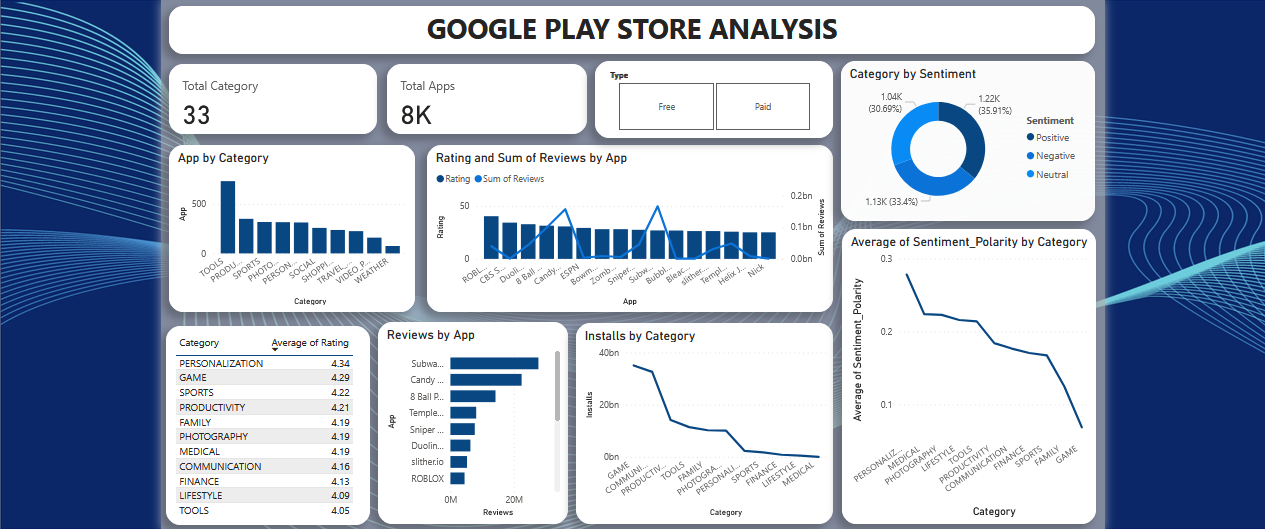

The dashboard page shown, as its layout file describes it:
{"tool":"powerbi","page":{"name":"Page 1","canvas":[1280,720],"ordinal":0},"visuals":[{"type":"textbox","box":[11,9.9,1255.7,65.2],"z":0},{"type":"cardVisual","fields":{"Data":["googleplaystore.Total Category"]},"box":[11.3,87.9,282,95],"z":1000},{"type":"cardVisual","fields":{"Data":["googleplaystore.TOTAL APPS"]},"box":[306.1,87.9,270.7,95],"z":2000},{"type":"clusteredColumnChart","fields":{"Y":["CountNonNull(googleplaystore.App)"],"Category":["googleplaystore.Category"]},"box":[11.3,198.4,333.1,226.8],"z":3000},{"type":"lineStackedColumnComboChart","fields":{"Category":["googleplaystore.App"],"Y":["Sum(googleplaystore.Rating)"],"Y2":["Sum(googleplaystore.Reviews)"]},"box":[360,198.4,549.9,226.8],"z":4000},{"type":"donutChart","fields":{"Category":["googleplaystore_user_reviews.Sentiment"],"Y":["CountNonNull(googleplaystore.Category)"]},"box":[922.7,83.6,344.4,216.9],"z":5000},{"type":"clusteredBarChart","fields":{"Category":["googleplaystore.App"],"Y":["Max(googleplaystore.Reviews)"]},"box":[293.6,437.7,257.1,273.6],"z":5000,"group":"g1"},{"type":"slicer","fields":{"Values":["googleplaystore.Type"]},"box":[588.2,83.6,323.1,104.9],"z":6000},{"type":"tableEx","fields":{"Values":["googleplaystore.Category","Avg(googleplaystore.Rating)"]},"box":[6.6,443.9,276.4,269.3],"z":6000,"group":"g1"},{"type":"lineChart","fields":{"Category":["googleplaystore.Category"],"Y":["Sum(googleplaystore.Installs)"]},"box":[562.4,439.7,348.8,272.6],"z":7000,"group":"g1"},{"type":"group","id":"g1","title":"Group 1","box":[6.6,311.8,1260.5,401.4],"z":7000},{"type":"lineChart","fields":{"Category":["googleplaystore.Category"],"Y":["Avg(googleplaystore_user_reviews.Sentiment_Polarity)"]},"box":[922.6,311.8,344.5,400.5],"z":8000,"group":"g1"}]}

Visuals, with their boxes in screenshot pixels (x1, y1, x2, y2):
textbox: region(160, 1, 1106, 50)
cardVisual - googleplaystore.Total Category: region(160, 60, 373, 131)
cardVisual - googleplaystore.TOTAL APPS: region(382, 60, 586, 131)
clusteredColumnChart - CountNonNull(googleplaystore.App) x googleplaystore.Category: region(160, 143, 411, 314)
lineStackedColumnComboChart - googleplaystore.App x Sum(googleplaystore.Rating): region(423, 143, 837, 314)
donutChart - googleplaystore_user_reviews.Sentiment x CountNonNull(googleplaystore.Category): region(847, 56, 1106, 220)
clusteredBarChart - googleplaystore.App x Max(googleplaystore.Reviews): region(373, 323, 566, 528)
slicer - googleplaystore.Type: region(595, 56, 838, 135)
tableEx - googleplaystore.Category x Avg(googleplaystore.Rating): region(157, 328, 365, 528)
lineChart - googleplaystore.Category x Sum(googleplaystore.Installs): region(575, 325, 838, 528)
"Group 1" group: region(157, 228, 1106, 528)
lineChart - googleplaystore.Category x Avg(googleplaystore_user_reviews.Sentiment_Polarity): region(846, 228, 1106, 528)
